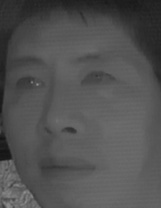eye: (81, 68, 114, 93), (14, 74, 47, 94)
mouth: (38, 150, 96, 185)
